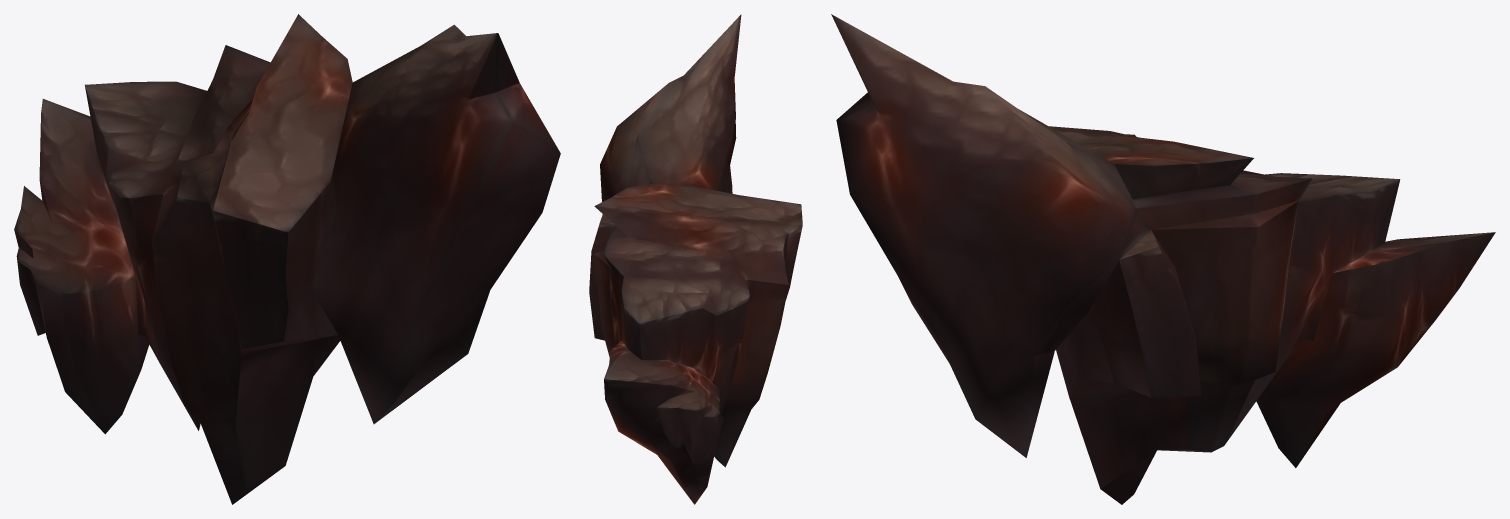
The model's file is 1005_Item_Stone_06.FBX.
3 views of the same model, side by side, from view 1: azimuth 30°, elevation 25°; view 2: azimuth 150°, elevation 25°; view 3: azimuth 270°, elevation 25° (orthographic). The views are drawn at different scales.
Parts seen in each view (by area): view 1: 1005_Item_Stone_06; view 2: 1005_Item_Stone_06; view 3: 1005_Item_Stone_06.
Boxes of the visible parts, x1=… form: 1005_Item_Stone_06: x1=14, y1=14, x2=560, y2=504; 1005_Item_Stone_06: x1=589, y1=14, x2=802, y2=504; 1005_Item_Stone_06: x1=831, y1=14, x2=1495, y2=504.
Bounding box in the file's own units: 4645 × 7897 × 8649.
